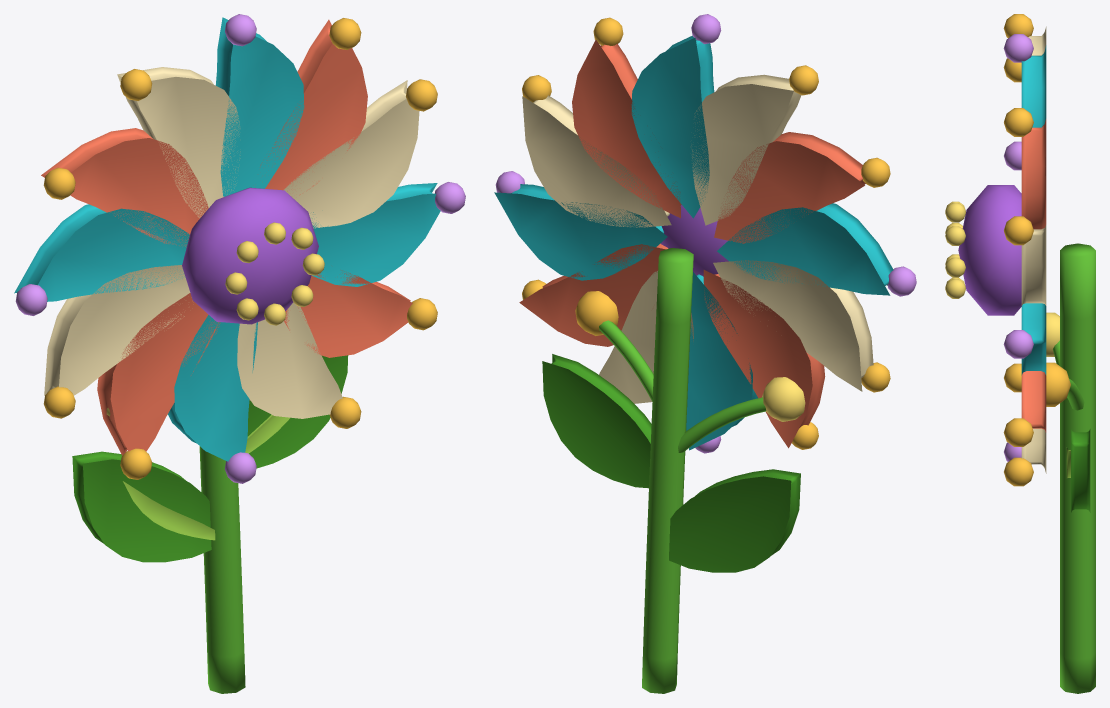
The model's file is spiral_bloom.glb.
The picture shows the model from 3 angles, left to right: view 1: azimuth 30°, elevation 25°; view 2: azimuth 150°, elevation 25°; view 3: azimuth 270°, elevation 25°; orthographic projection. The views are drawn at different scales.
Visible parts, largest first — view 1: spiral_bloom; view 2: spiral_bloom; view 3: spiral_bloom.
Boxes of the visible parts, x1,y1,x2,y2 form: spiral_bloom: [14, 14, 465, 693]; spiral_bloom: [494, 14, 916, 693]; spiral_bloom: [945, 14, 1095, 693].
Size of what is drawn, in the model's own units: 1.72 by 2.59 by 0.548.
1 material, 1 textured.
